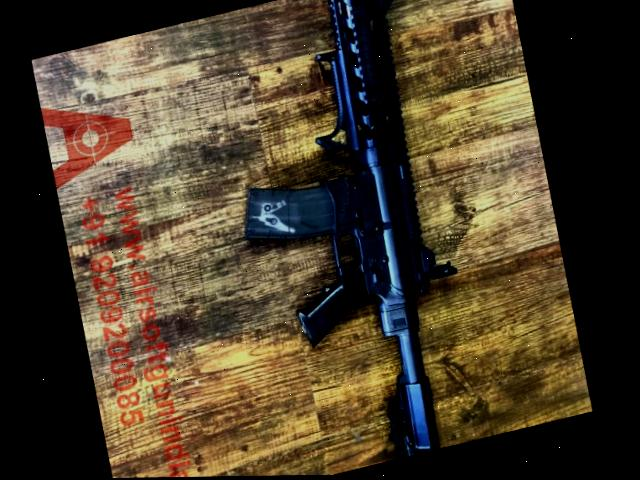rifle: (179, 0, 515, 478)
